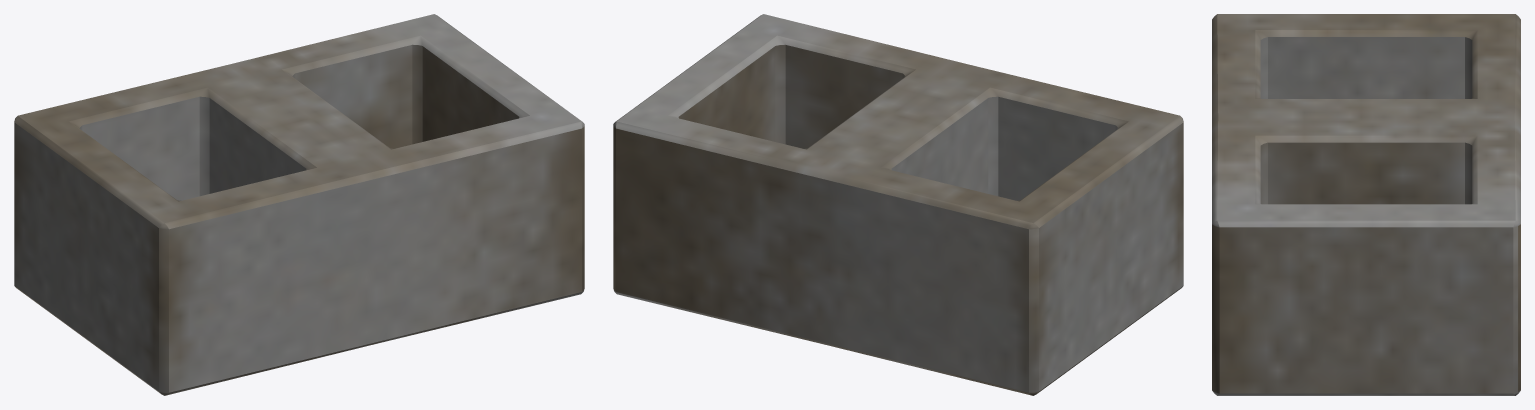
Rendered from Prop_GrayBrick.fbx.
3 views of the same model, side by side, from view 1: azimuth 30°, elevation 25°; view 2: azimuth 150°, elevation 25°; view 3: azimuth 270°, elevation 25° (orthographic).
Visible parts, largest first — view 1: Prop_GrayBrick; view 2: Prop_GrayBrick; view 3: Prop_GrayBrick.
Boxes of the visible parts, x1,y1,x2,y2 form: Prop_GrayBrick: [14, 14, 584, 395]; Prop_GrayBrick: [613, 14, 1183, 395]; Prop_GrayBrick: [1212, 14, 1520, 395].
Bounding box in the file's own units: 19.48 × 7.55 × 12.05.
